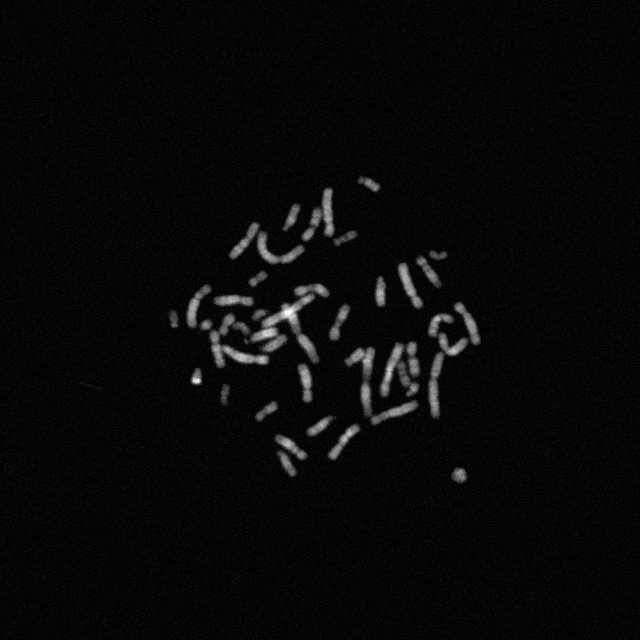chromosome: (282, 303, 320, 363), (262, 294, 314, 326), (258, 231, 304, 263), (371, 400, 419, 426), (228, 222, 260, 260), (380, 342, 402, 396), (328, 424, 360, 460), (398, 262, 422, 308), (454, 302, 480, 344), (188, 284, 210, 328), (361, 348, 375, 417), (274, 434, 308, 462), (429, 352, 443, 418), (222, 345, 268, 365), (416, 256, 442, 288), (330, 304, 350, 340), (208, 330, 226, 368), (439, 332, 467, 356), (302, 208, 322, 240), (428, 312, 454, 336), (306, 414, 332, 436), (294, 282, 328, 298), (298, 364, 312, 402), (322, 188, 333, 236), (276, 450, 296, 476), (282, 203, 300, 231), (262, 335, 288, 353), (250, 327, 278, 343), (344, 346, 366, 366), (255, 401, 277, 421), (407, 342, 419, 376), (214, 296, 252, 306), (334, 230, 356, 246), (218, 314, 234, 336), (398, 361, 410, 387), (376, 276, 386, 306), (358, 178, 379, 192), (249, 271, 267, 287), (451, 468, 467, 484), (233, 321, 251, 335), (406, 382, 419, 396), (169, 310, 179, 328), (220, 384, 228, 406), (429, 250, 446, 260), (252, 308, 266, 320), (191, 368, 201, 384), (200, 320, 212, 330)
